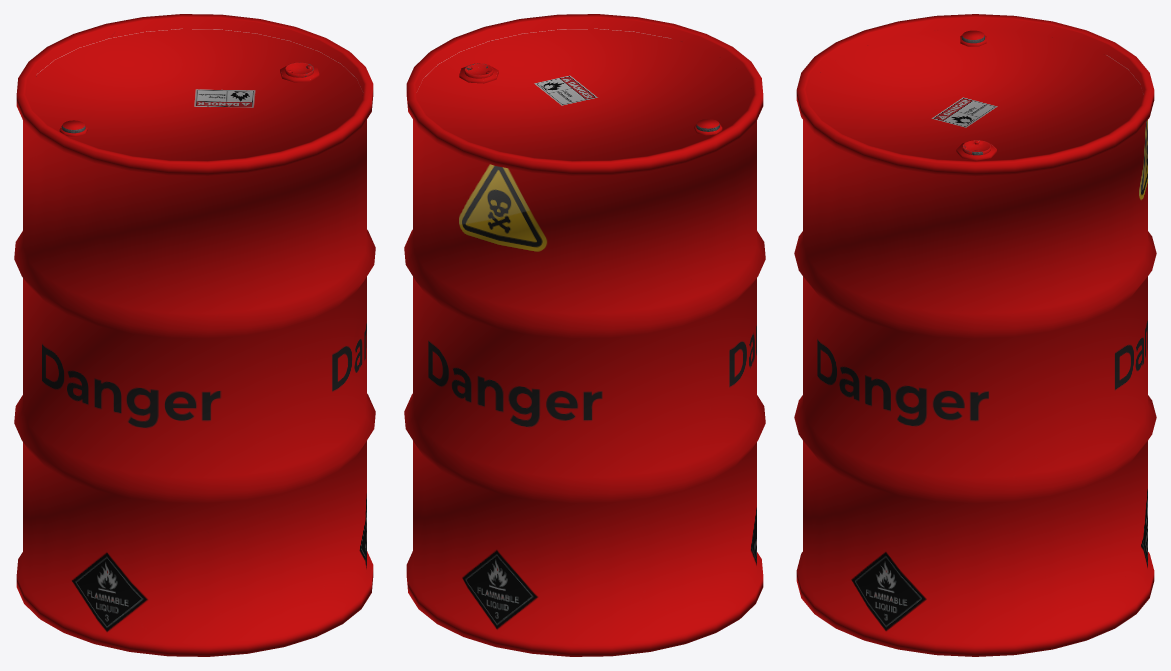
File: Hurdle 3 Drum.fbx
The picture shows the model from 3 angles, left to right: view 1: azimuth 30°, elevation 25°; view 2: azimuth 150°, elevation 25°; view 3: azimuth 270°, elevation 25°; orthographic projection.
Parts seen in each view (by area): view 1: oil barrel; view 2: oil barrel; view 3: oil barrel.
Boxes of the visible parts, left/top/right/bottom form: oil barrel: left=14, top=14, right=375, bottom=656; oil barrel: left=404, top=14, right=765, bottom=656; oil barrel: left=794, top=14, right=1156, bottom=656.
Bounding box in the file's own units: 62.02 × 92.88 × 62.02.
1 material, 1 textured.
